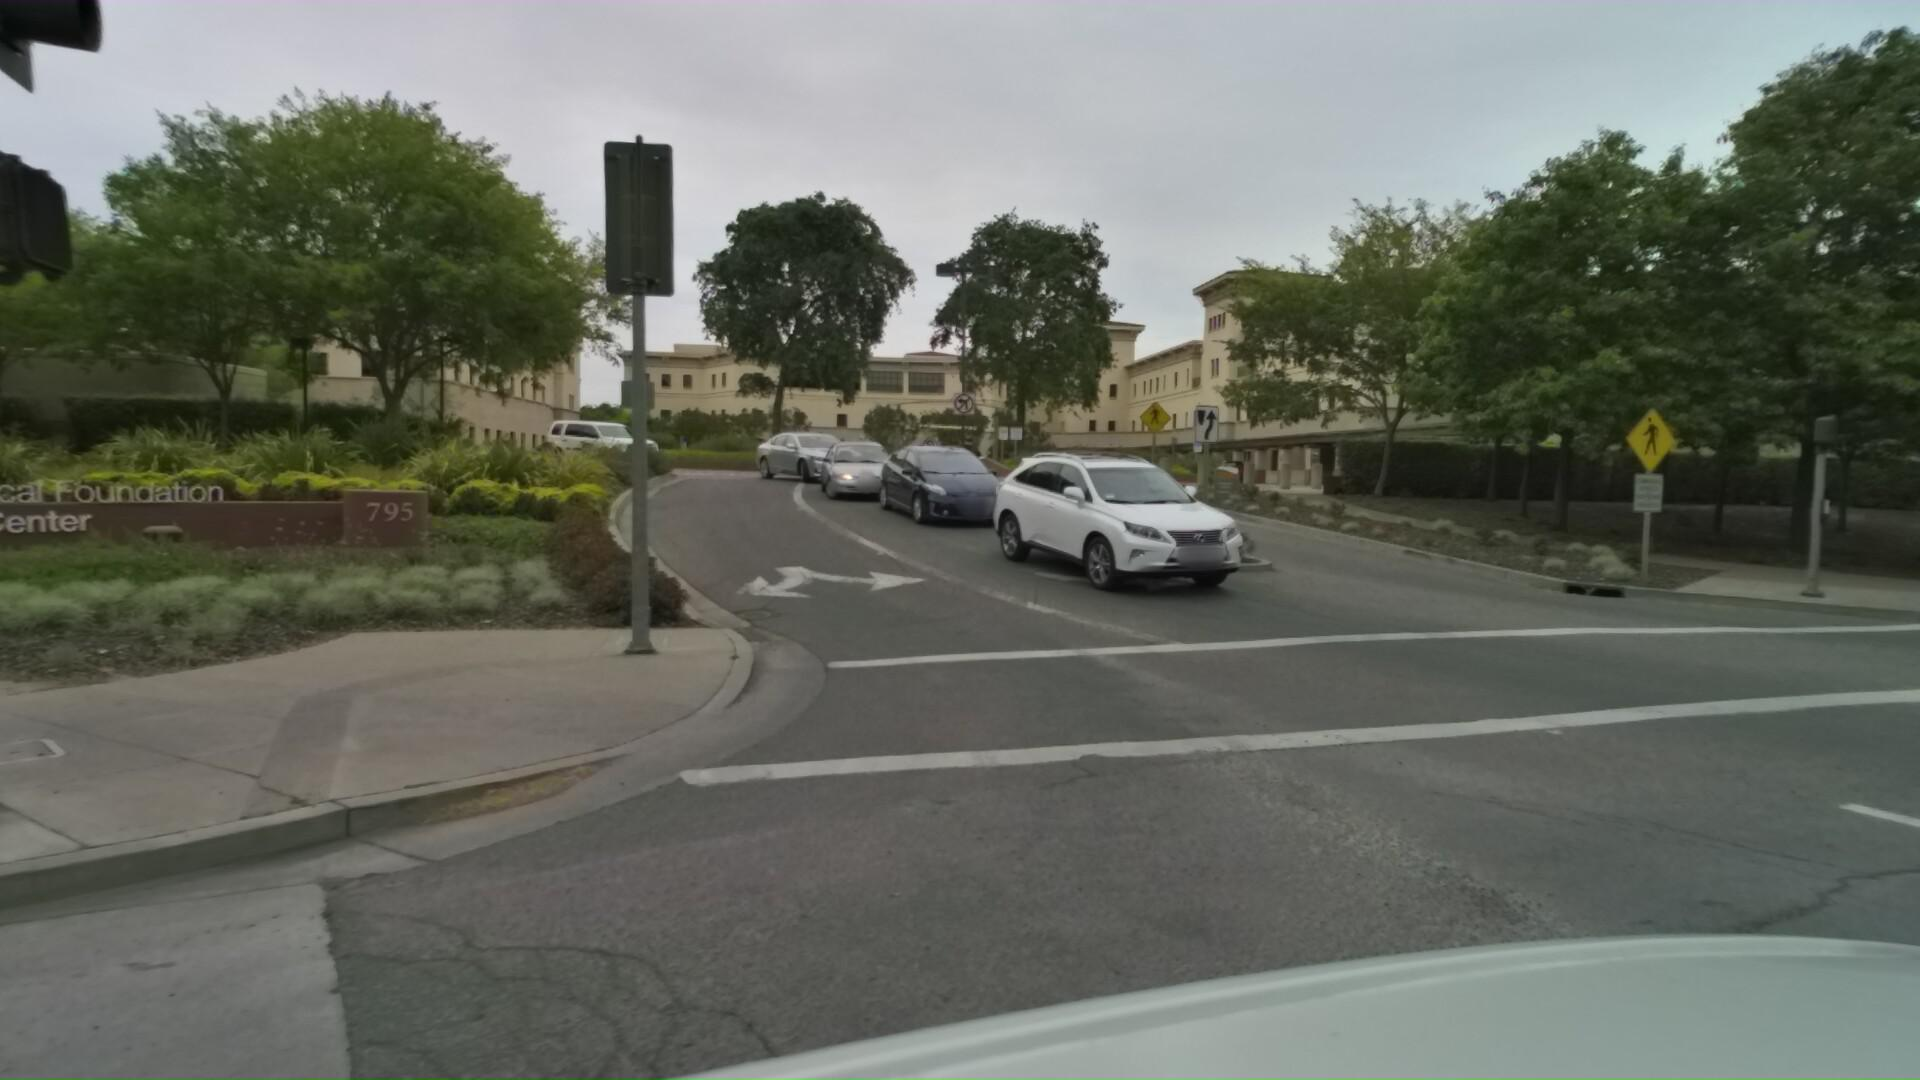car: (1004, 440, 1305, 591), (890, 431, 1051, 526), (764, 419, 897, 483), (831, 425, 928, 500), (559, 411, 687, 468)
